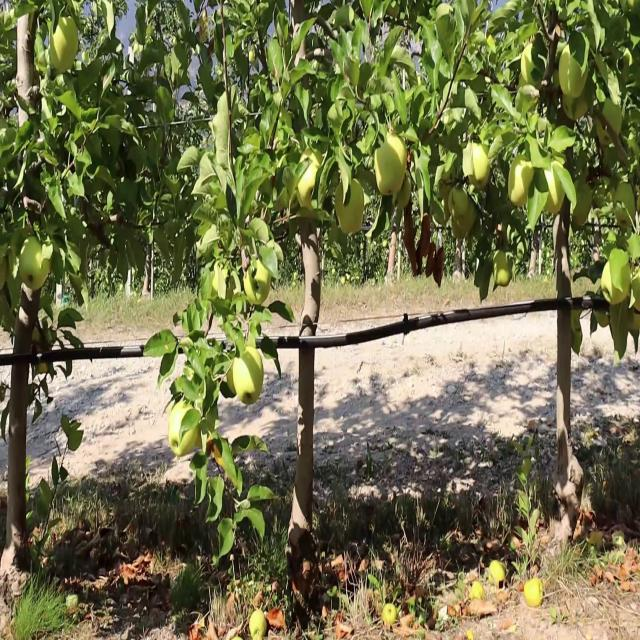apple: (372, 134, 406, 198), (295, 150, 327, 212), (334, 176, 365, 236), (233, 346, 264, 404), (49, 15, 79, 72), (167, 403, 198, 457), (19, 236, 50, 287), (557, 48, 588, 99), (507, 153, 534, 209), (539, 164, 566, 216), (600, 262, 629, 304), (244, 263, 271, 307), (614, 182, 640, 226), (468, 141, 491, 190), (596, 100, 621, 145), (491, 249, 513, 288), (523, 576, 545, 607), (247, 608, 267, 640), (448, 186, 468, 217), (488, 556, 506, 587), (380, 601, 397, 626)
